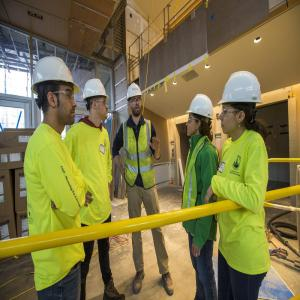white: (34, 57, 78, 128), (221, 71, 262, 136), (188, 96, 214, 140), (83, 80, 109, 123), (128, 84, 142, 118)
